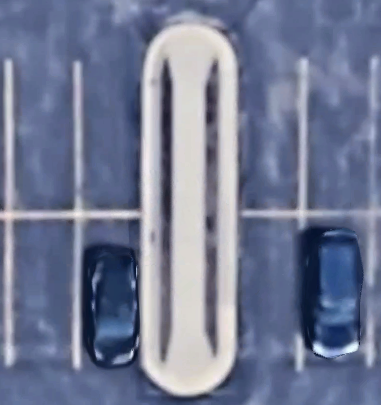Occupied: (299, 214, 371, 371), (77, 215, 146, 369)
Vacant: (230, 58, 302, 214), (230, 215, 302, 371), (9, 59, 79, 215), (303, 58, 373, 213), (78, 59, 146, 215), (8, 216, 77, 369)
